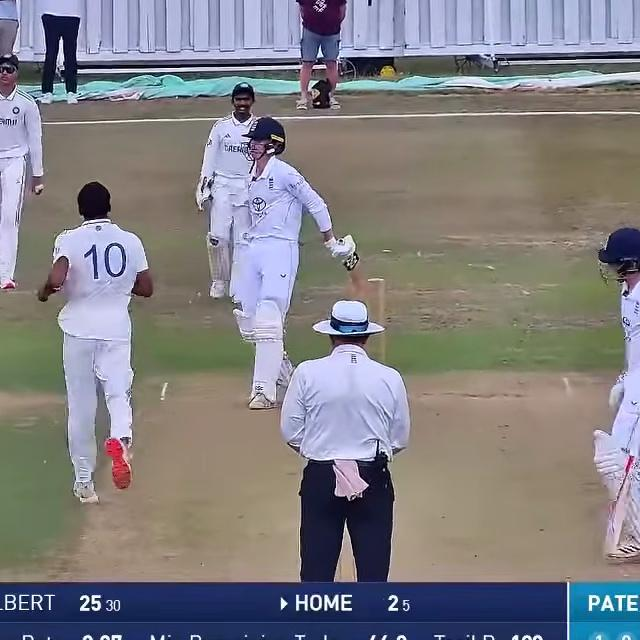umpire: (268, 290, 421, 584)
